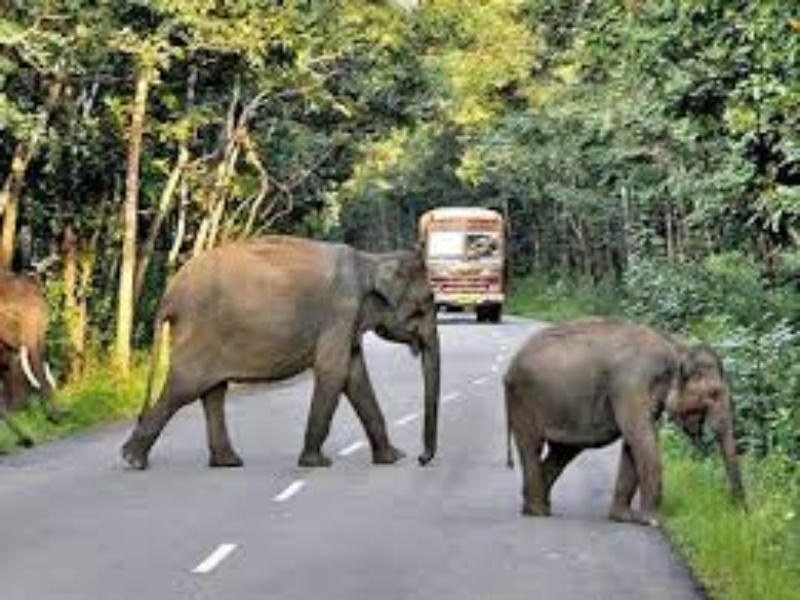elephant: (103, 164, 467, 514), (495, 296, 764, 547)
